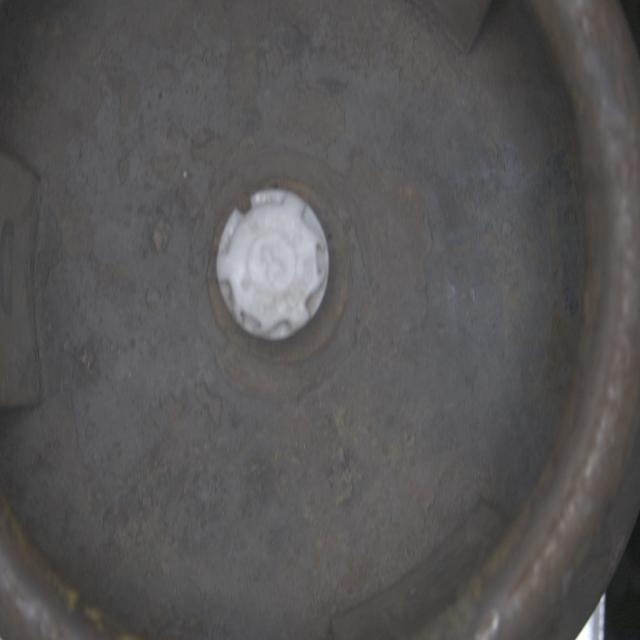Cap: (213, 184, 333, 341)
